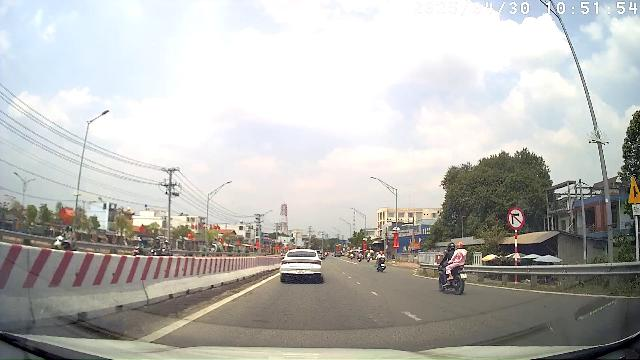123b-cam-re-phai: (508, 207, 525, 230)
